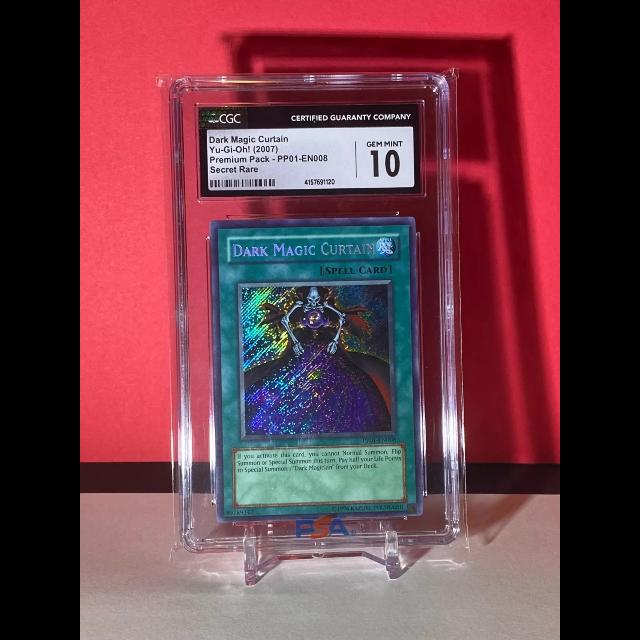card: (210, 217, 423, 523)
cgc_label: (198, 102, 422, 198)
cgc_slab: (169, 71, 461, 555)
